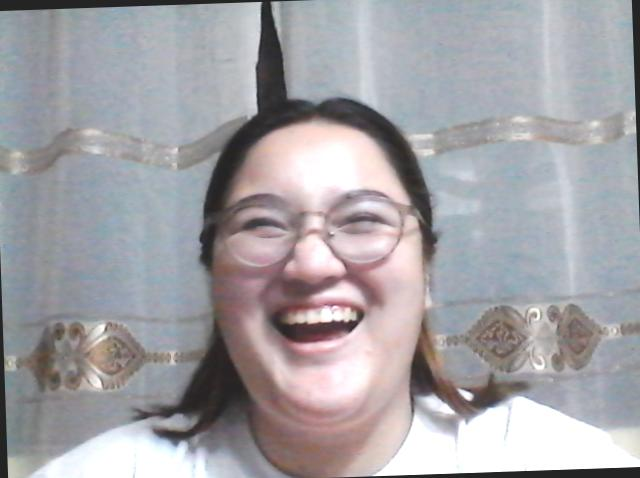senang: (194, 132, 432, 431)
